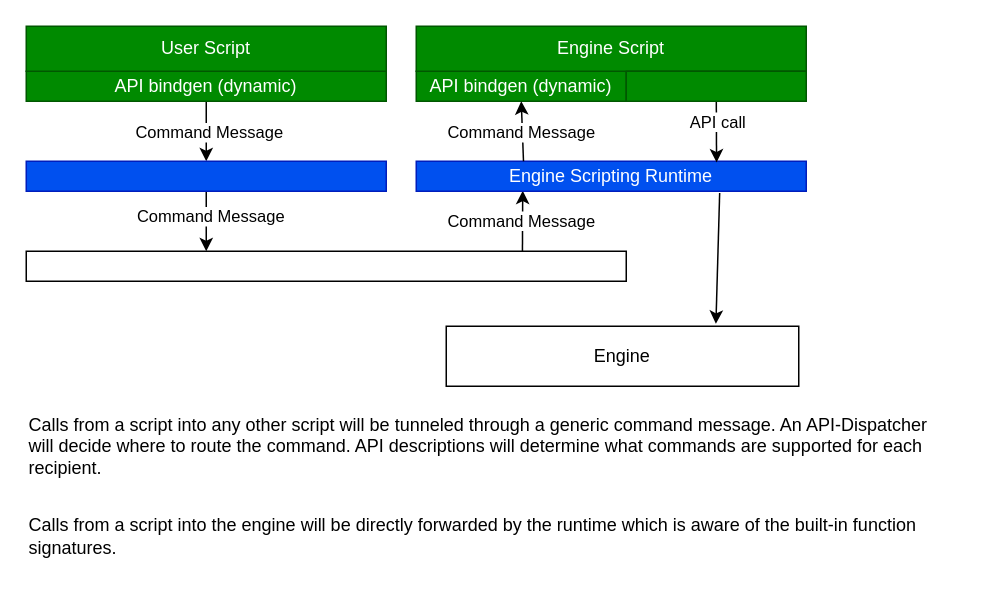
This 983x593 diagram has some shape labels left out. The shapes that lost their labels are listed below. From the top down, each one's centre as x and y in pixels, then its label:
(715,85): API bindgen (built-in)
(205,175): User Scripting Runtime
(325,265): API Dispatching (Framework)
